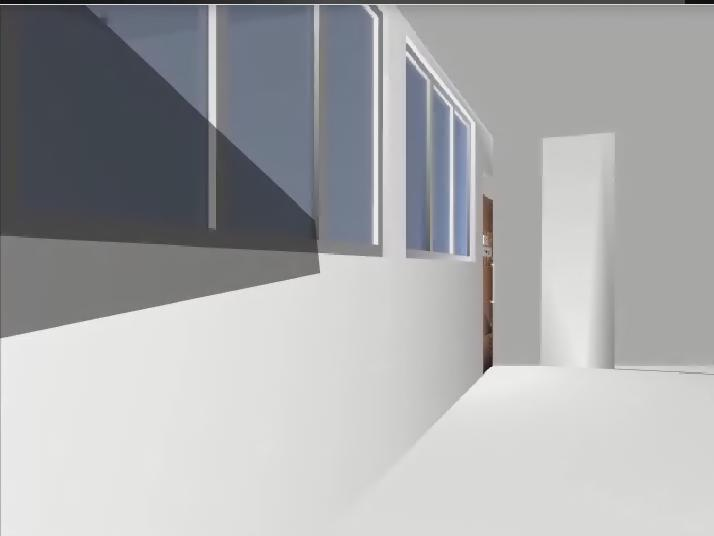door: (483, 194, 493, 373)
